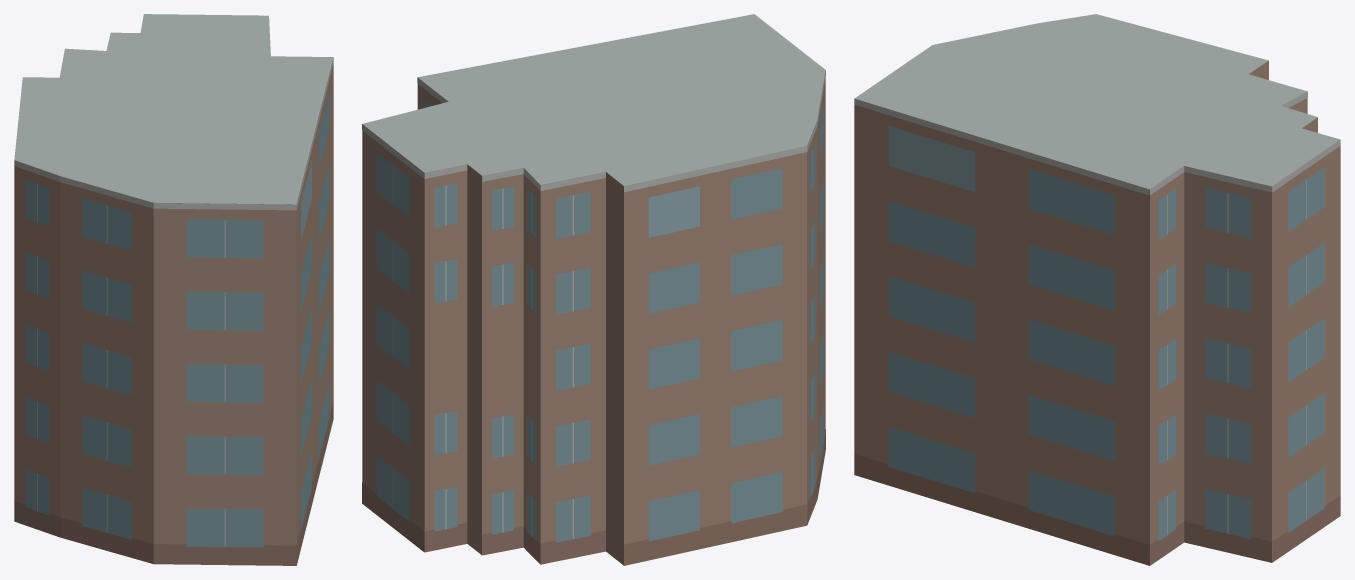
Rendered from survey-upis-33008018.glb.
3 renders of one model, left to right at view 1: azimuth 30°, elevation 25°; view 2: azimuth 150°, elevation 25°; view 3: azimuth 270°, elevation 25°, orthographic. The views are drawn at different scales.
Visible parts, largest first — view 1: survey-upis-33008018.tmp; view 2: survey-upis-33008018.tmp; view 3: survey-upis-33008018.tmp.
Boxes of the visible parts, bbox=[...] form: survey-upis-33008018.tmp: bbox=[14, 14, 333, 565]; survey-upis-33008018.tmp: bbox=[362, 14, 825, 565]; survey-upis-33008018.tmp: bbox=[854, 14, 1340, 565].
Bounding box in the file's own units: 15 × 15 × 17.57.
